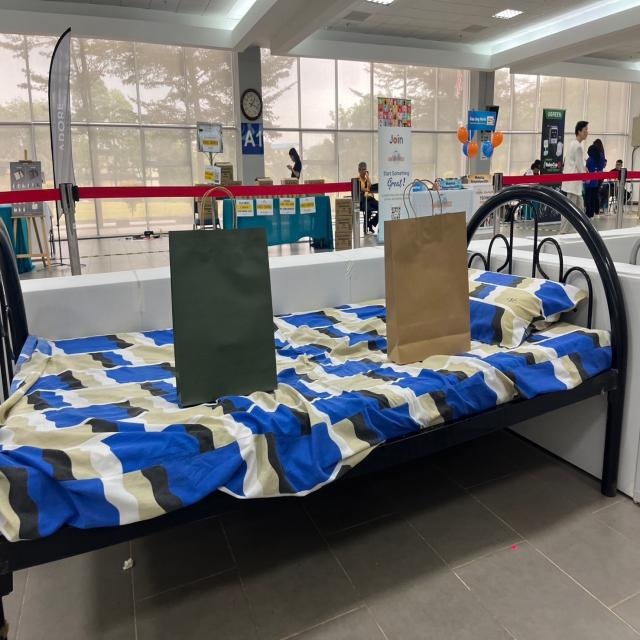bag: (163, 193, 274, 394), (382, 174, 470, 361)
